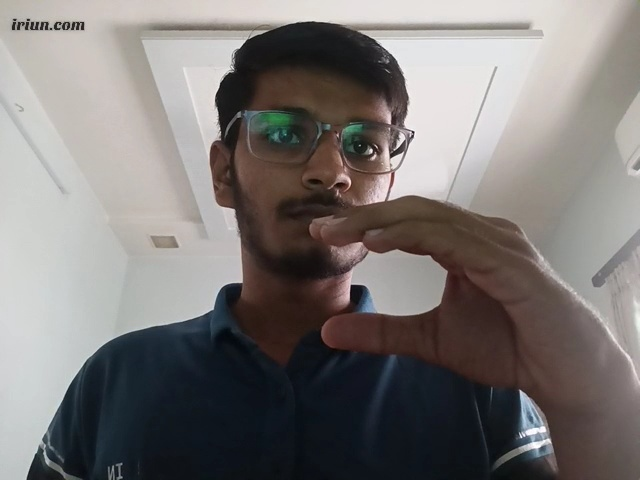No: (306, 192, 640, 419)
